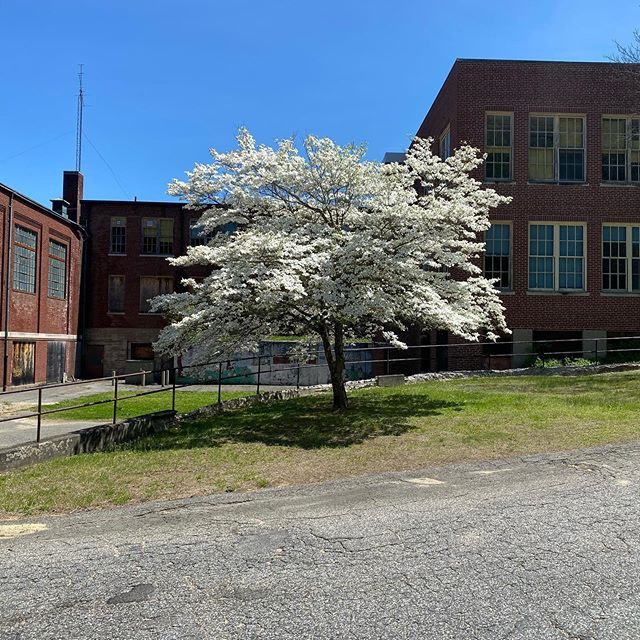building: (425, 53, 640, 370), (71, 187, 383, 391), (1, 190, 88, 415)
sky: (6, 1, 640, 180)
street: (1, 375, 623, 640)
tree: (164, 127, 512, 421)
